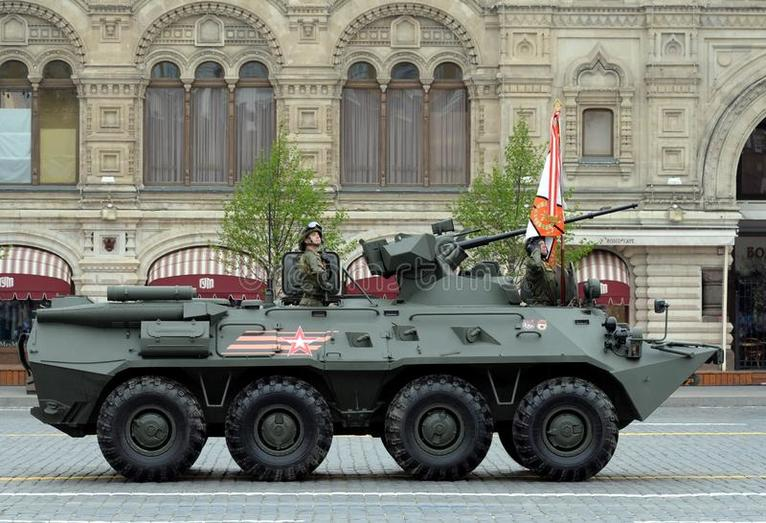btr: (20, 248, 720, 475)
